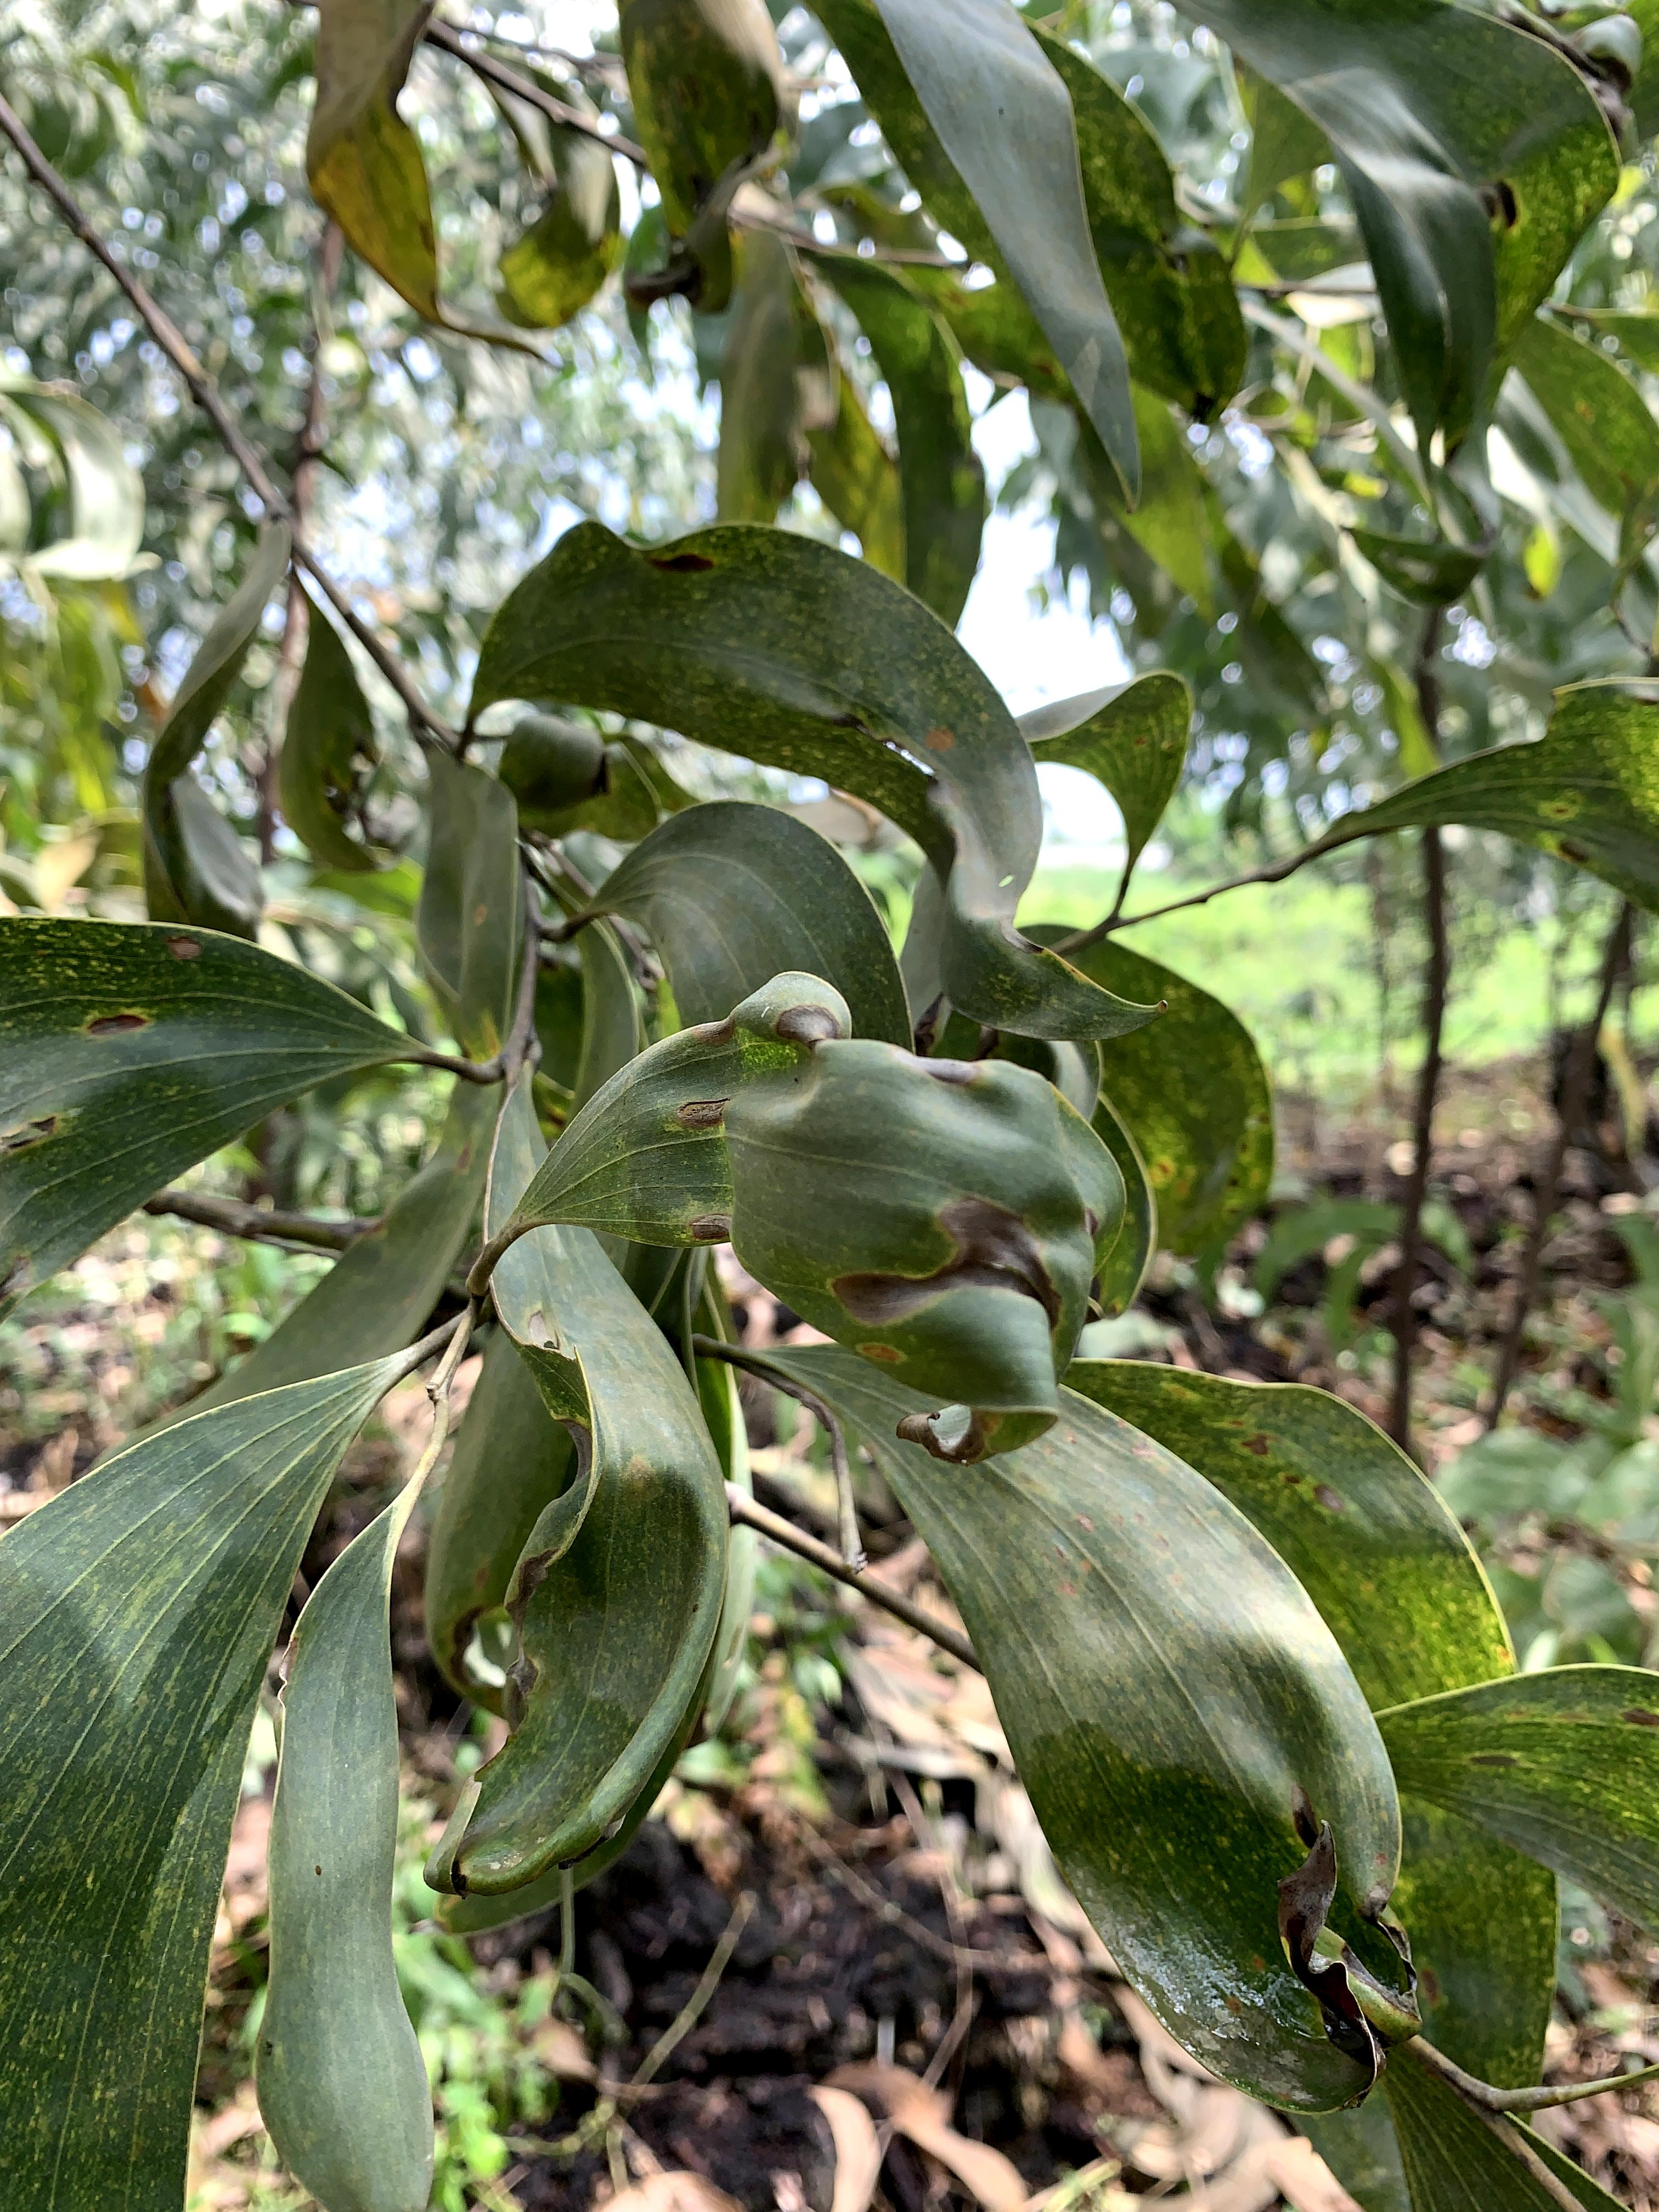Pasalora: (368, 1235, 725, 1921), (1032, 1686, 1452, 2094), (793, 1028, 1136, 1390)
